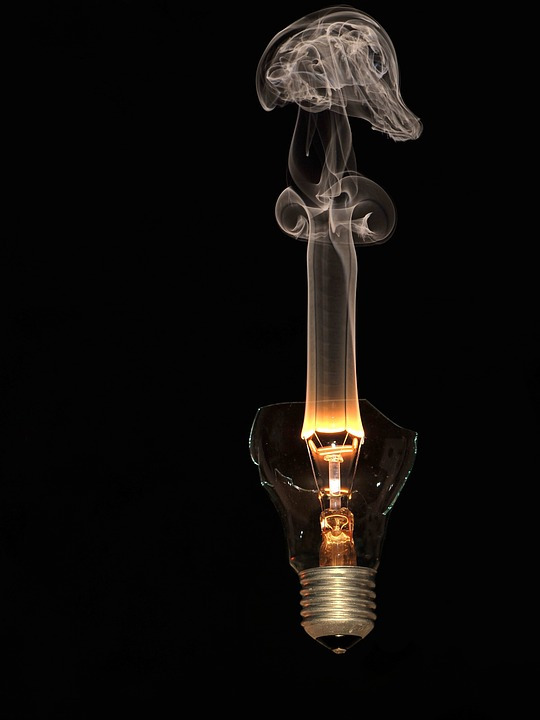Light bulb: (247, 395, 421, 659)
